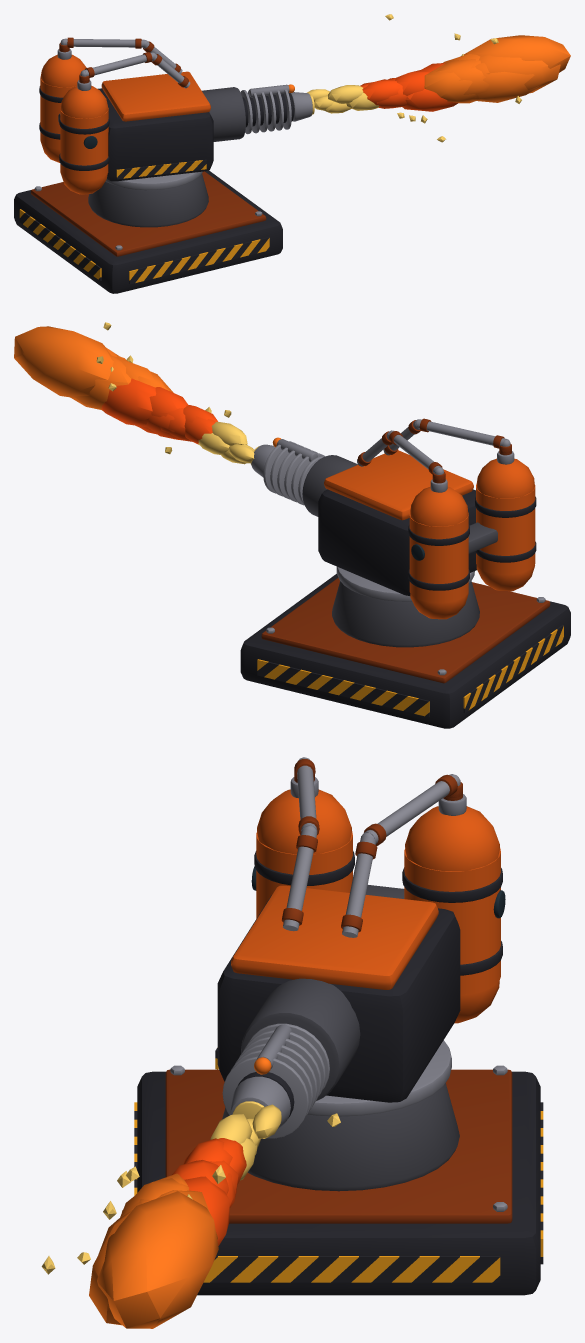
The model's file is Flamethrower.obj.
The picture shows the model from 3 angles, top to bottom: view 1: azimuth 30°, elevation 25°; view 2: azimuth 150°, elevation 25°; view 3: azimuth 270°, elevation 25°; orthographic projection. The views are drawn at different scales.
Parts seen in each view (by area): view 1: Flamethrower; view 2: Flamethrower; view 3: Flamethrower.
Part boxes in pixels (x1=…): Flamethrower: x1=14, y1=14, x2=570, y2=293; Flamethrower: x1=14, y1=322, x2=570, y2=728; Flamethrower: x1=41, y1=757, x2=543, y2=1328.
Bounding box in the file's own units: 2.64 × 1.07 × 1.24.
